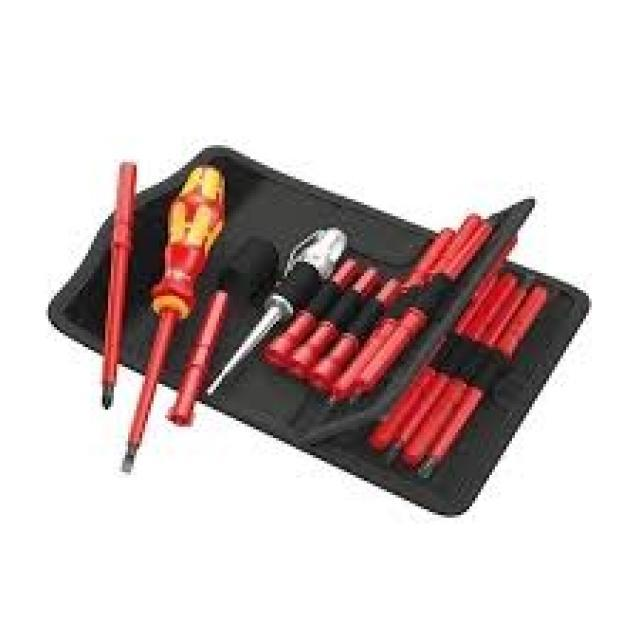screwdriver: (113, 151, 224, 478)
